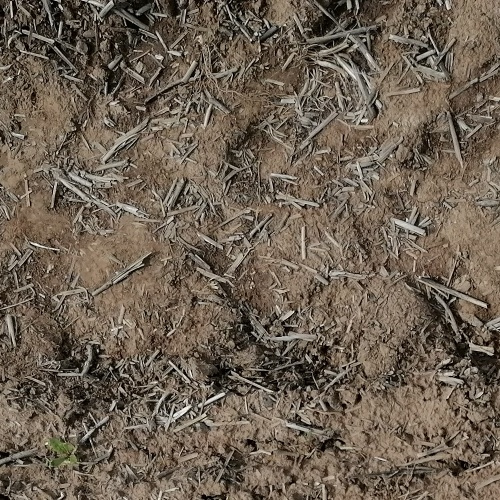beet: (48, 436, 81, 470)
